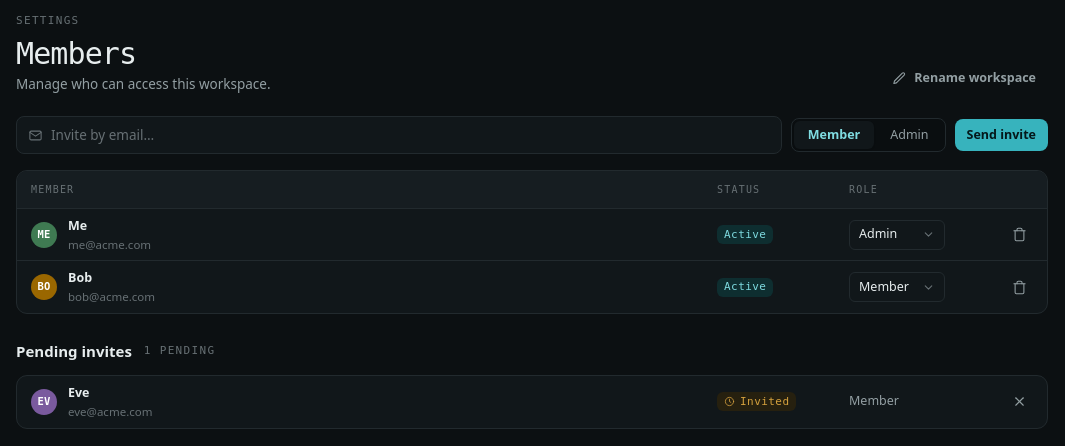
workspaces-ui S-003 — members screen › AS-010: the admin changes a member's role
Expected: the element with test id "member-row-u-bob" is shown, 17,261 -> 1047,313
Open the shadcn (Radix) Select for Bob and pick Admin.
Click the dropdown with test id "role-u-bob" at (897, 287), box 849,272 -> 945,302
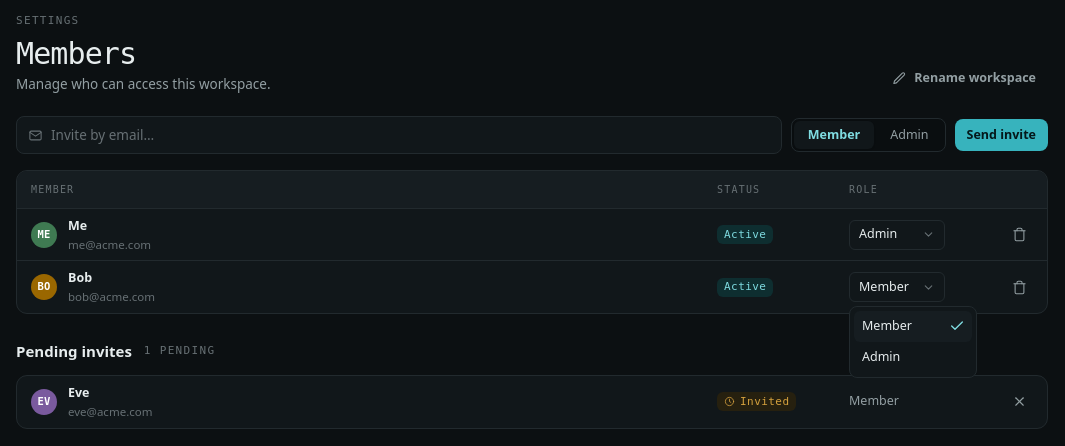
Click the option "Admin" at (881, 356), box 862,348 -> 900,365
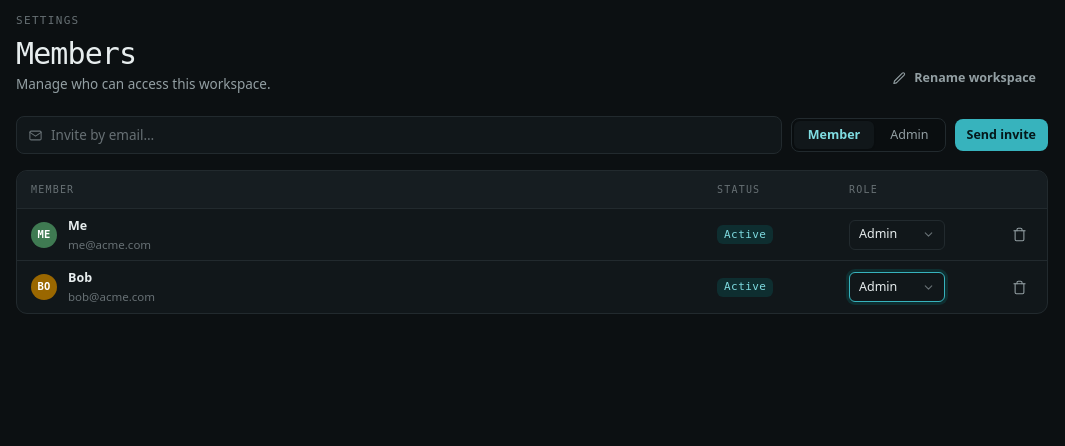
Expected: the dropdown with test id "role-u-bob" reads "Admin", 849,272 -> 945,302
